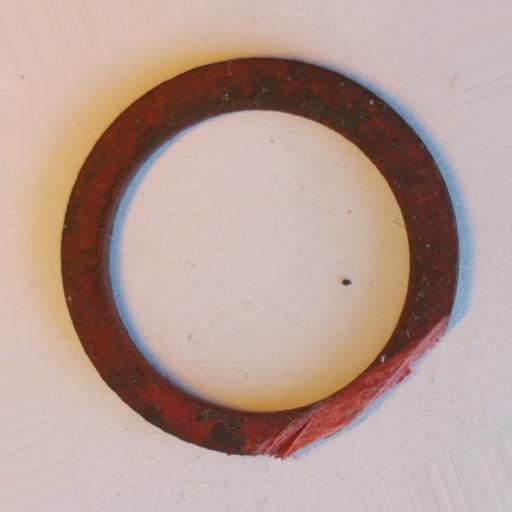defect: (253, 315, 451, 462)
